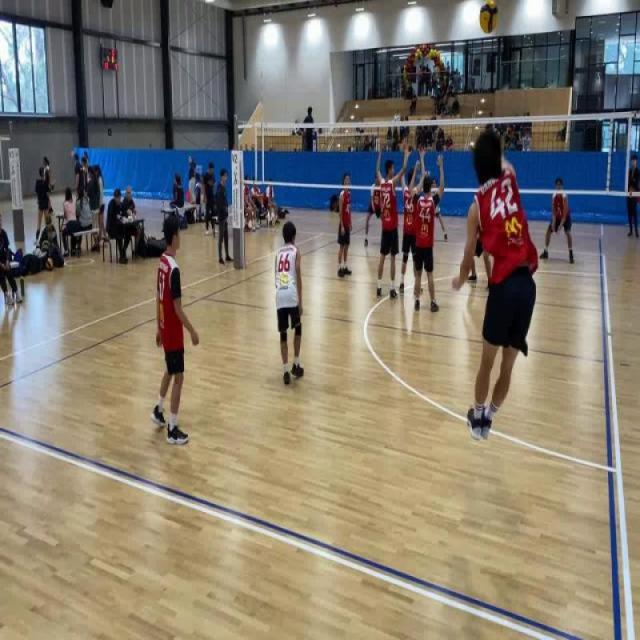volleyball: (477, 0, 499, 35), (45, 256, 54, 271), (148, 233, 152, 241)
